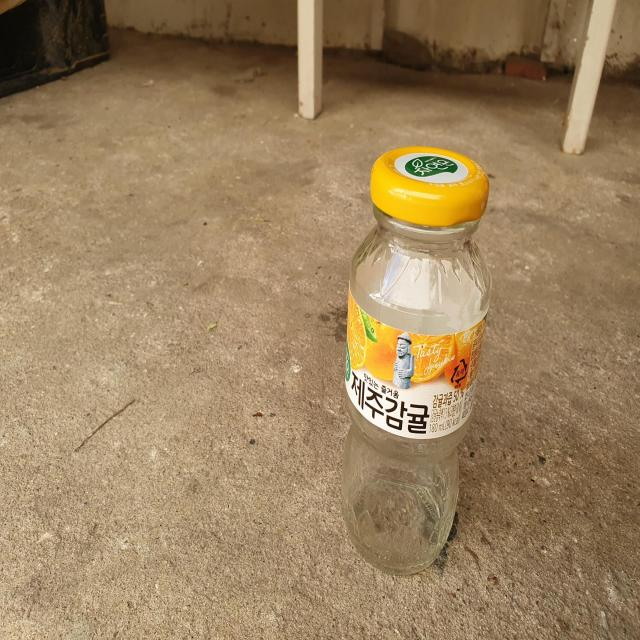glass: (342, 145, 492, 574)
